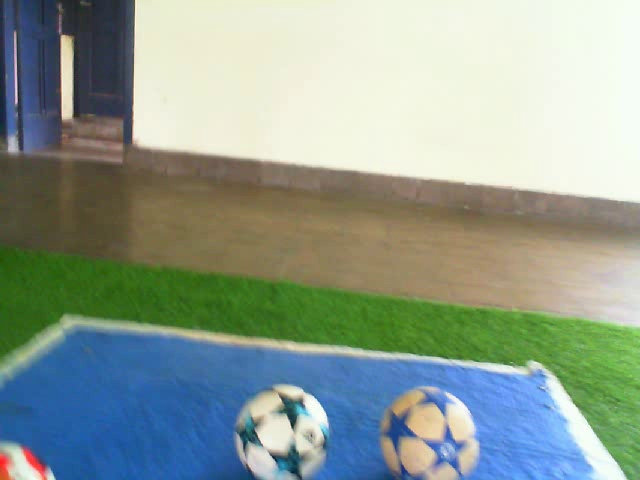ball: (375, 383, 483, 480), (231, 381, 334, 480), (1, 436, 61, 480)
